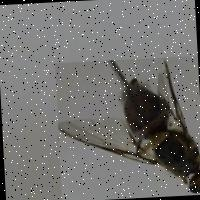Oriental-fruit-fly: (54, 56, 200, 200)
